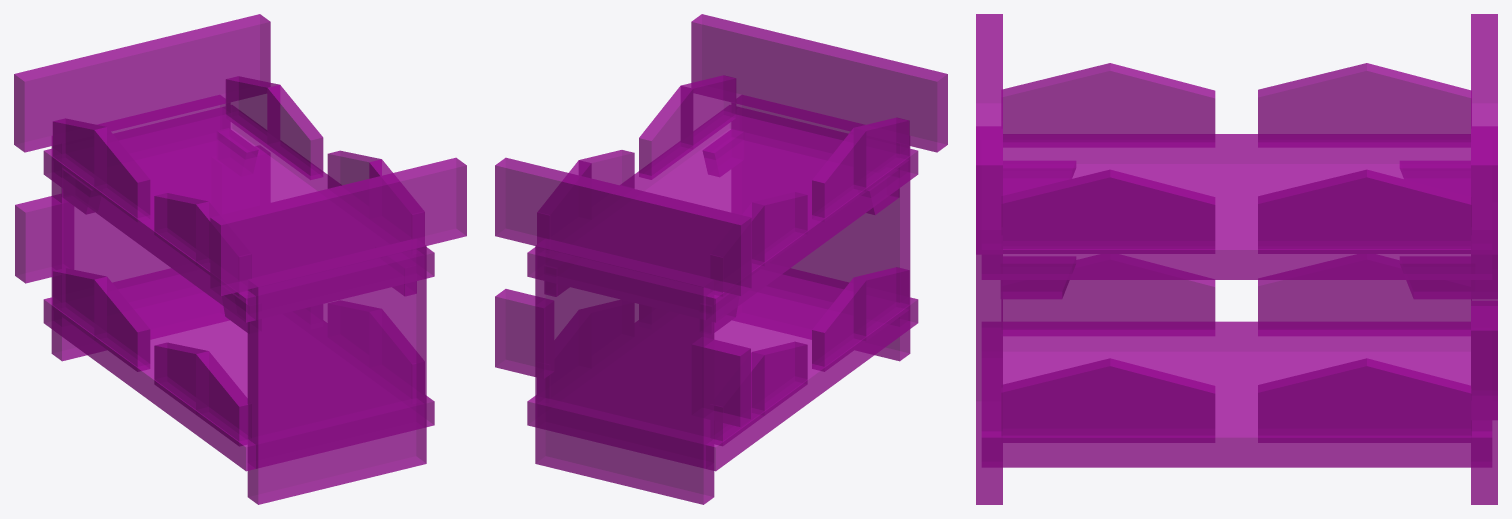
The model's file is SM_Prop_Bunk_Bed_02_Collision.fbx.
3 renders of one model, left to right at view 1: azimuth 30°, elevation 25°; view 2: azimuth 150°, elevation 25°; view 3: azimuth 270°, elevation 25°, orthographic. The views are drawn at different scales.
Parts seen in each view (by area): view 1: SM_Prop_Bunk_Bed_02_Collision; view 2: SM_Prop_Bunk_Bed_02_Collision; view 3: SM_Prop_Bunk_Bed_02_Collision.
Part boxes in pixels (x1,y1,x2,y2): SM_Prop_Bunk_Bed_02_Collision: (14,14,466,504); SM_Prop_Bunk_Bed_02_Collision: (495,14,947,504); SM_Prop_Bunk_Bed_02_Collision: (976,14,1497,504).
Bounding box in the file's own units: 177 × 199 × 258.
